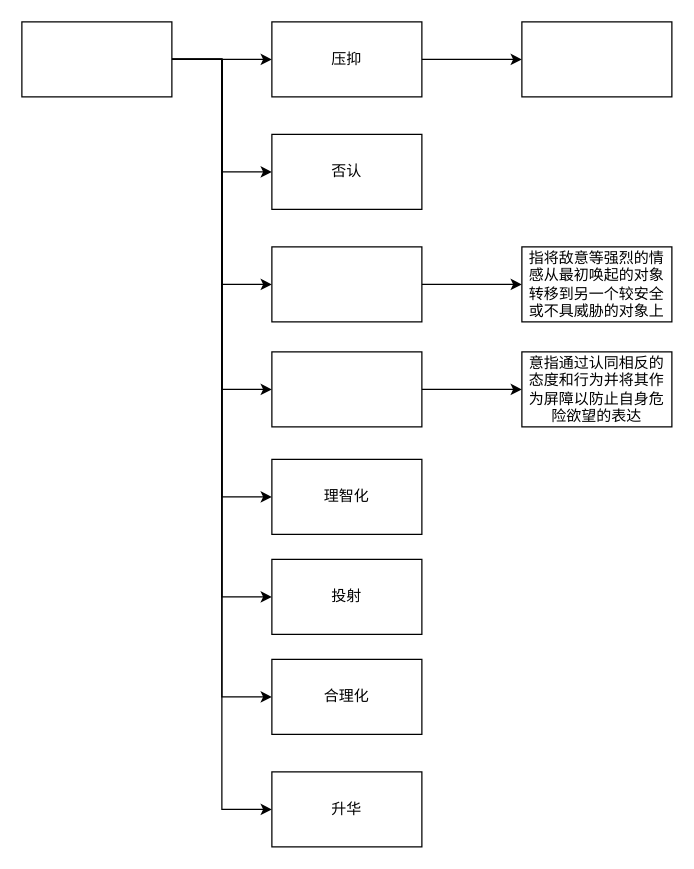
Some shapes in this 694 by 869 pixel diagram are drawn without their labels. The shapes that lost their labels are listed below. From the top down, each one's box as (x1, y1, x2, y2) in pixels, then its label:
(21, 21, 172, 97): 自我防御
(521, 21, 672, 97): 精神分析的目的就是要让压抑的潜意识内容得到合法的意识呈现
(271, 246, 422, 322): 替代
(271, 351, 422, 427): 反向形成
